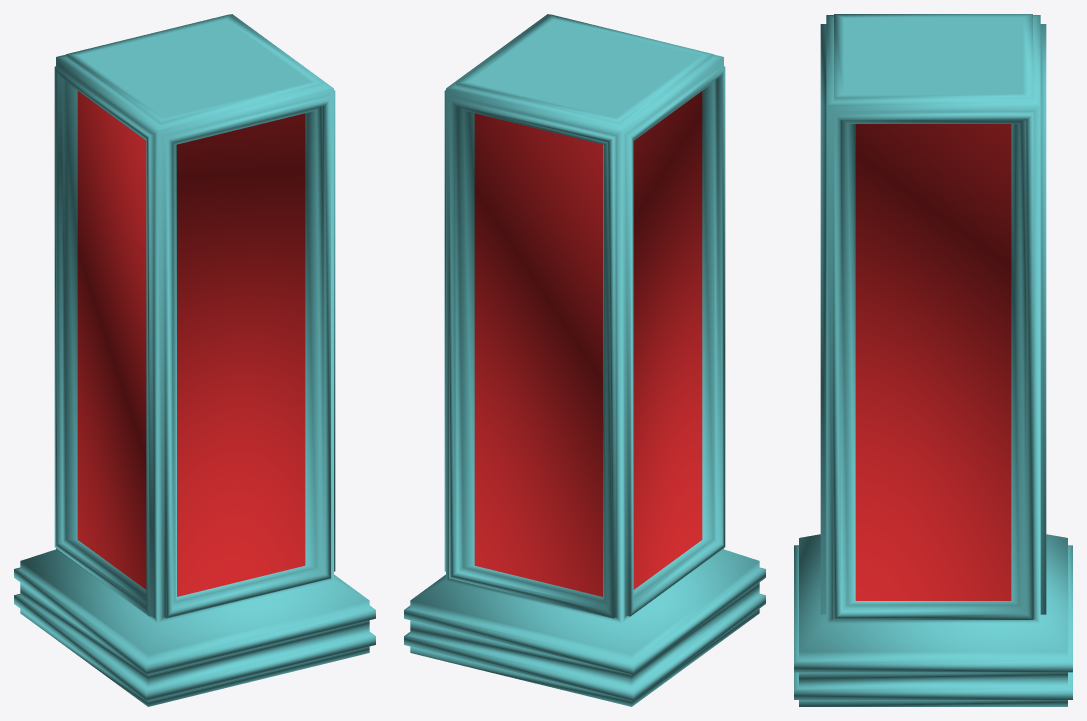
Rendered from MOD_LAM_Table_lamp_02.fbx.
The picture shows the model from 3 angles, left to right: view 1: azimuth 30°, elevation 25°; view 2: azimuth 150°, elevation 25°; view 3: azimuth 270°, elevation 25°; orthographic projection. The views are drawn at different scales.
Visible parts, largest first — view 1: HSHP_MOD_Table_lamp_02; view 2: HSHP_MOD_Table_lamp_02; view 3: HSHP_MOD_Table_lamp_02.
Part boxes in pixels (bbox=[...]): HSHP_MOD_Table_lamp_02: bbox=[14, 14, 375, 706]; HSHP_MOD_Table_lamp_02: bbox=[404, 14, 765, 706]; HSHP_MOD_Table_lamp_02: bbox=[794, 14, 1072, 706].
Bounding box in the file's own units: 0.243 × 0.571 × 0.243.
